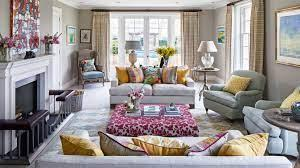chair: (204, 72, 267, 118), (77, 50, 105, 87)
door: (146, 14, 172, 66), (121, 13, 146, 65), (53, 11, 62, 89)
light: (195, 39, 217, 70)
sofa: (38, 127, 291, 168), (108, 65, 195, 108), (240, 99, 300, 155)
table: (104, 103, 201, 135), (196, 67, 220, 99)
